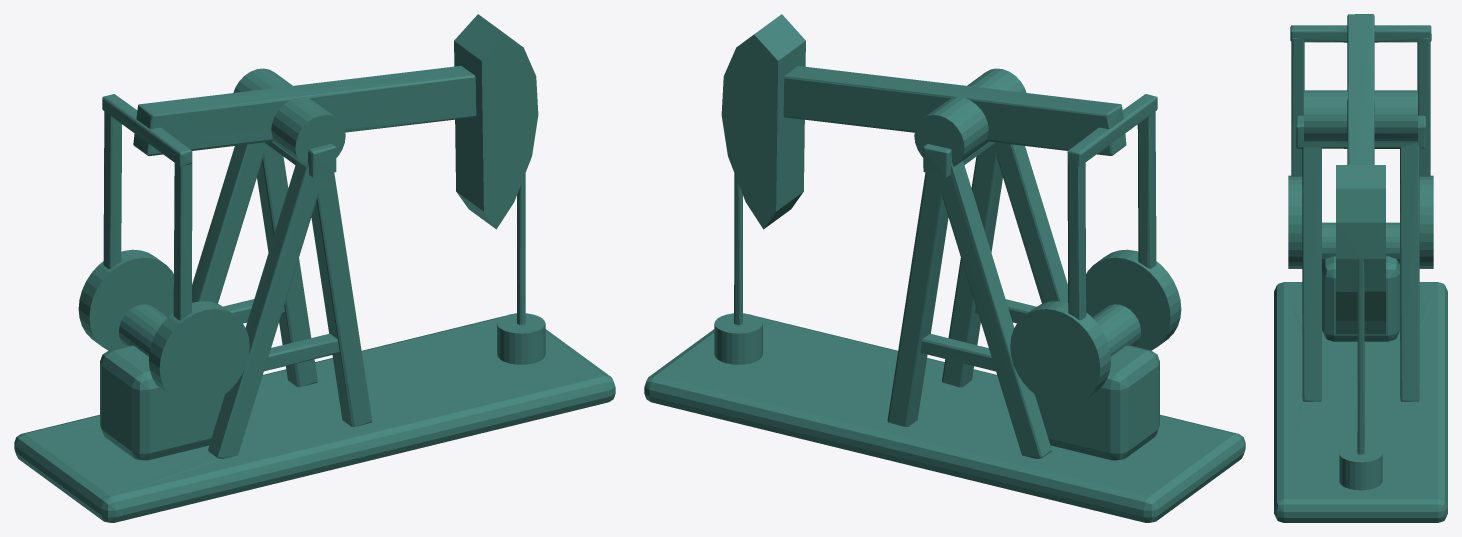
The model's file is NEW_RECOVERY_119_LOD1.glb.
3 renders of one model, left to right at view 1: azimuth 30°, elevation 25°; view 2: azimuth 150°, elevation 25°; view 3: azimuth 270°, elevation 25°, orthographic. The views are drawn at different scales.
Visible parts, largest first — view 1: Static oil pumpjack LOD1; view 2: Static oil pumpjack LOD1; view 3: Static oil pumpjack LOD1.
Boxes of the visible parts, x1,y1,x2,y2 form: Static oil pumpjack LOD1: (14, 14, 615, 522); Static oil pumpjack LOD1: (644, 14, 1245, 522); Static oil pumpjack LOD1: (1274, 14, 1447, 522).
Size of the model in its own units: 4.9 by 3.32 by 1.6.
